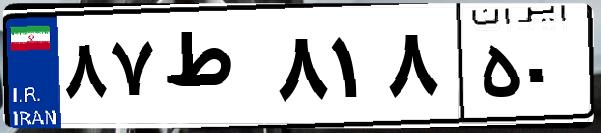0: (525, 38, 570, 115)
1: (330, 28, 385, 110)
5: (475, 38, 525, 113)
7: (110, 28, 158, 98)
8: (270, 28, 330, 110), (385, 28, 445, 110), (57, 26, 110, 100)
ط: (158, 20, 270, 120)
